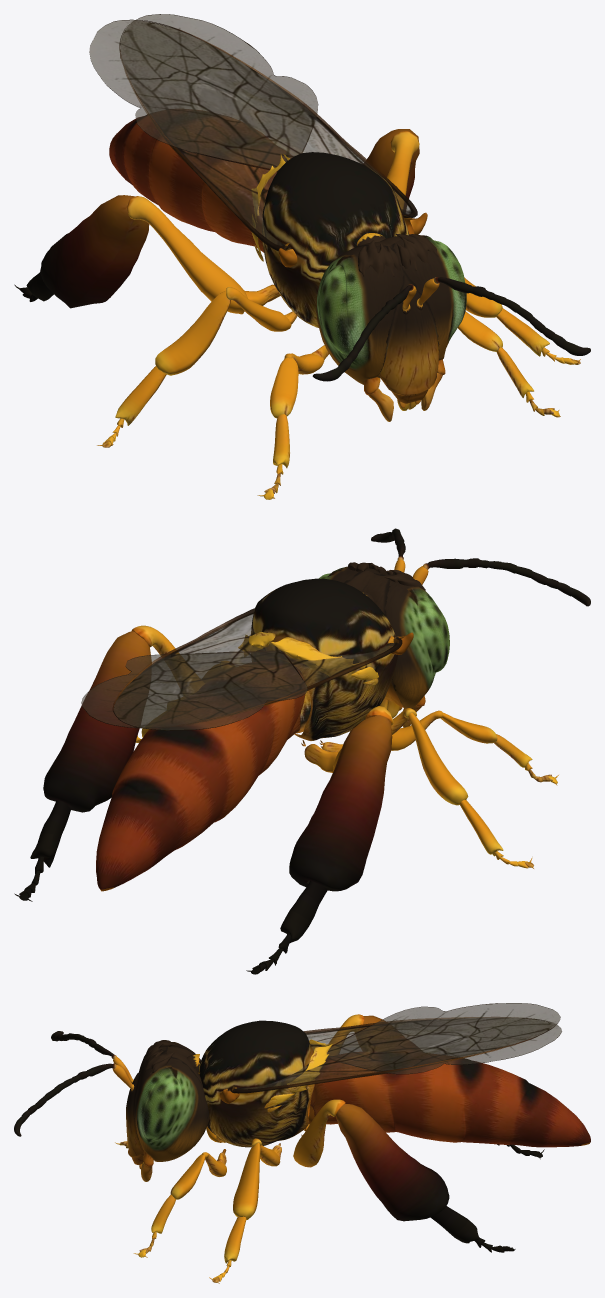
Rendered from jatai.glb.
3 renders of one model, top to bottom at view 1: azimuth 30°, elevation 25°; view 2: azimuth 150°, elevation 25°; view 3: azimuth 270°, elevation 25°, orthographic. The views are drawn at different scales.
Visible parts, largest first — view 1: skeletal.1; view 2: skeletal.1; view 3: skeletal.1.
Part boxes in pixels (x1=…): skeletal.1: x1=14, y1=14, x2=590, y2=499; skeletal.1: x1=14, y1=528, x2=590, y2=974; skeletal.1: x1=14, y1=1003, x2=590, y2=1283.
Size of the model in its own units: 14.83 by 7.35 by 21.54.
2 materials, 2 textured.
